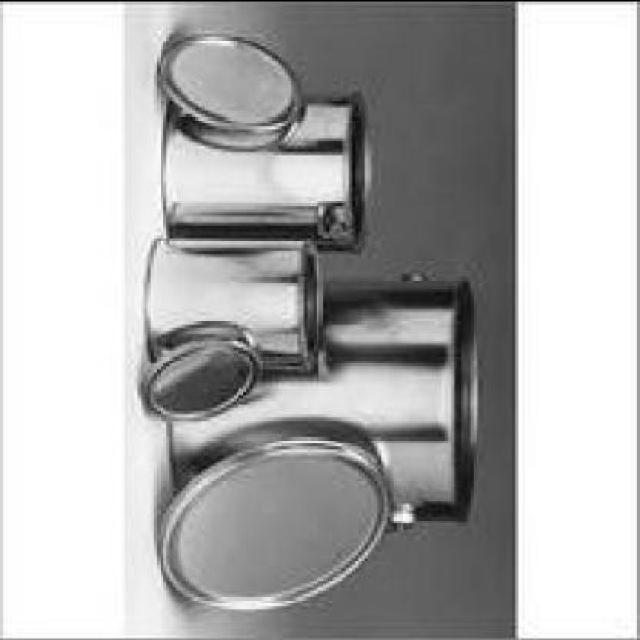METAL: (172, 276, 480, 522), (160, 438, 394, 614), (159, 99, 372, 256), (148, 239, 323, 375), (163, 32, 308, 134), (147, 333, 262, 422)
